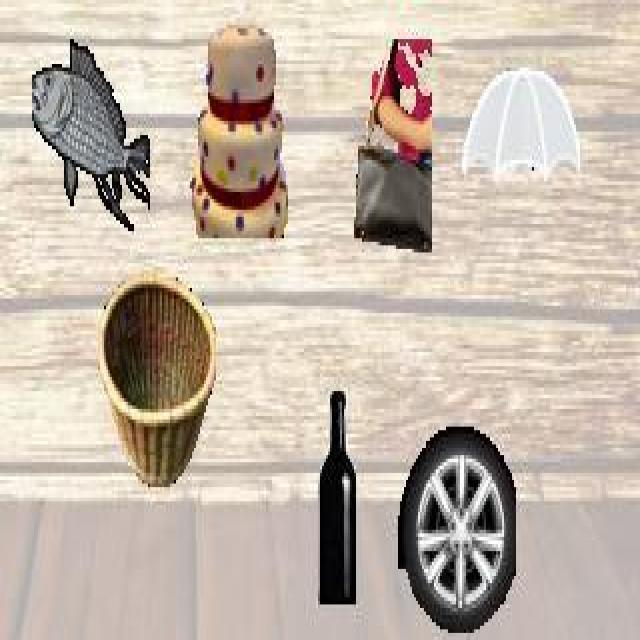Other Objects: (96, 269, 218, 488), (354, 35, 433, 254), (317, 387, 358, 607)
